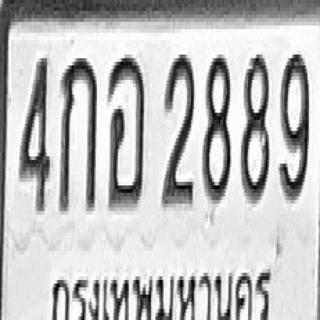A01: (58, 55, 97, 211)
A43: (106, 55, 144, 207)
N02: (162, 53, 194, 205)
N04: (19, 55, 51, 211)
N08: (240, 51, 269, 200), (202, 51, 230, 204)
N09: (279, 51, 308, 200)
